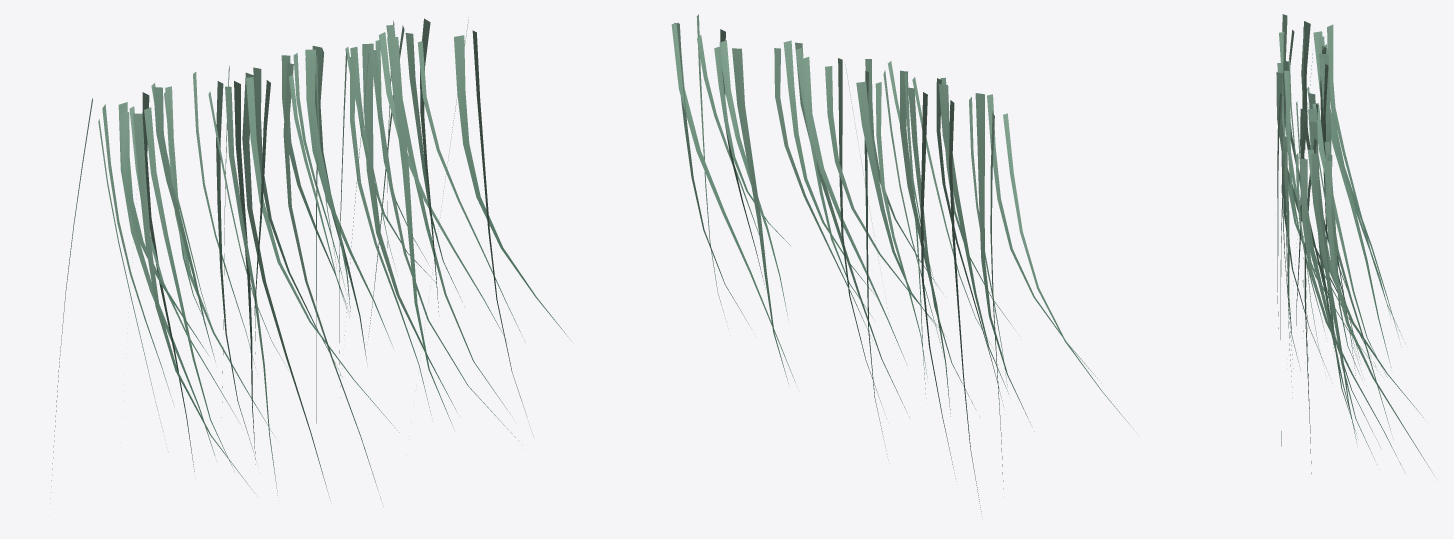
File: mesh-plant-037-bridal-veilweed_LOD1.glb
3 views of the same model, side by side, from view 1: azimuth 30°, elevation 25°; view 2: azimuth 150°, elevation 25°; view 3: azimuth 270°, elevation 25° (orthographic). The views are drawn at different scales.
Parts seen in each view (by area): view 1: geometry_0; view 2: geometry_0; view 3: geometry_0.
Part boxes in pixels (<box>): geometry_0: <box>51,17,570,499</box>; geometry_0: <box>671,14,1133,513</box>; geometry_0: <box>1276,14,1434,475</box>.
Bounding box in the file's own units: 3.19 × 2.32 × 1.63.
